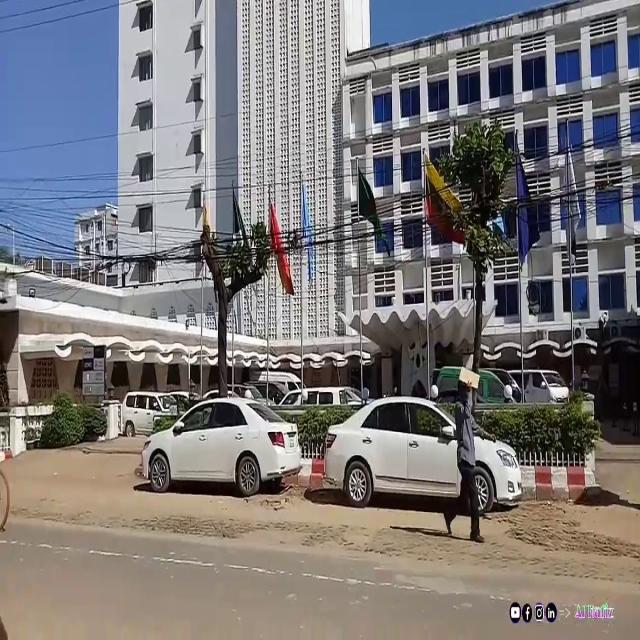white: (330, 403, 524, 508), (141, 392, 297, 516)
